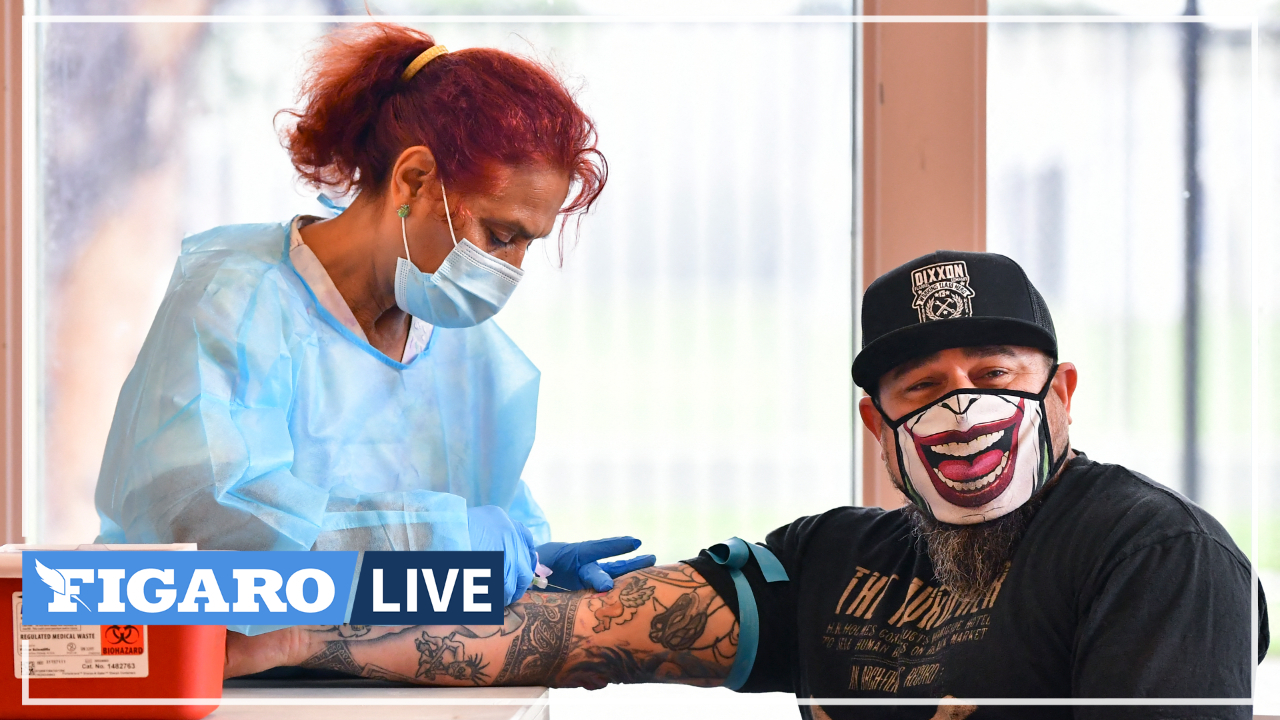with_mask: (868, 321, 1080, 535), (386, 136, 560, 337)
